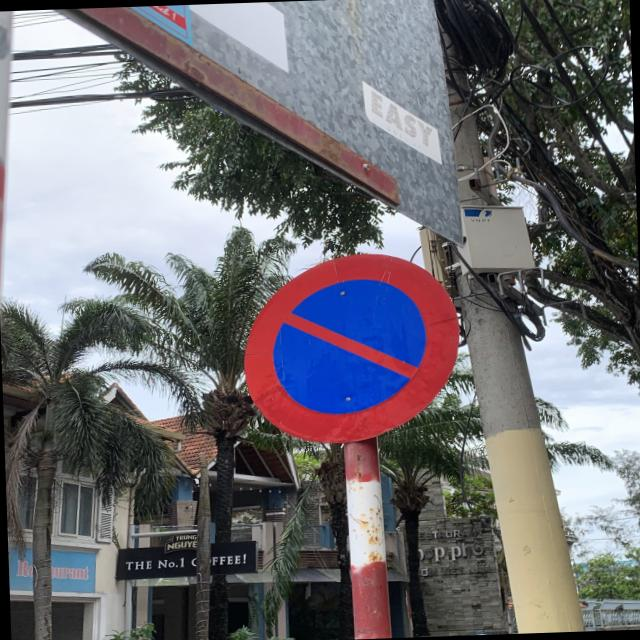Cam_Dau_Xe: (238, 250, 462, 443)
